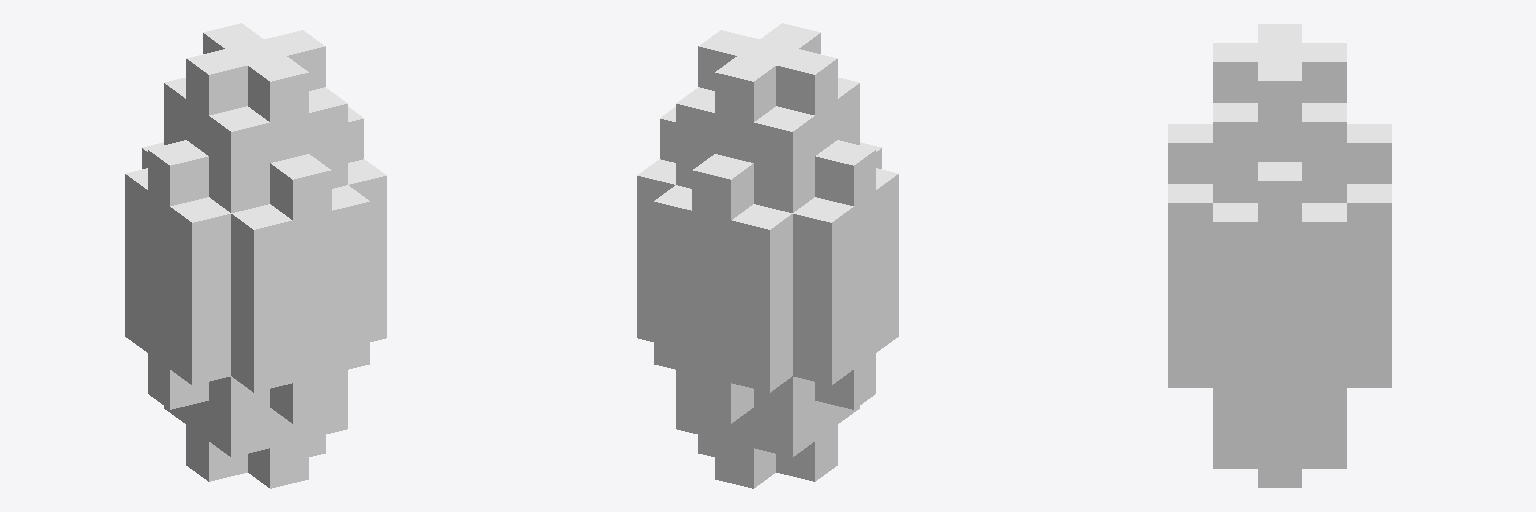
File: android-3-legR.obj
The picture shows the model from 3 angles: view 1: azimuth 30°, elevation 25°; view 2: azimuth 150°, elevation 25°; view 3: azimuth 270°, elevation 25°; orthographic projection.
Visible parts, largest first — view 1: legR; view 2: legR; view 3: legR.
Part boxes in pixels (x1,y1,x2,y2): legR: (125,23,386,488); legR: (637,23,898,488); legR: (1168,24,1391,487).
Bounding box in the file's own units: 0.5 × 1 × 0.5.